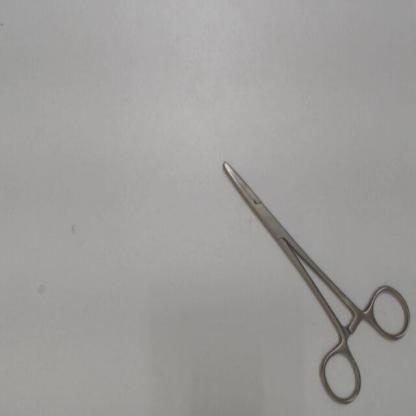Mayo Needle Holder: (213, 148, 414, 411)
